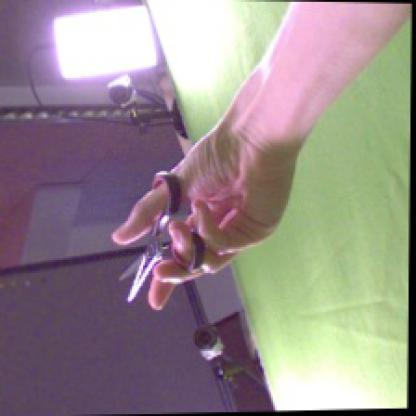Hand: (111, 121, 295, 310)
